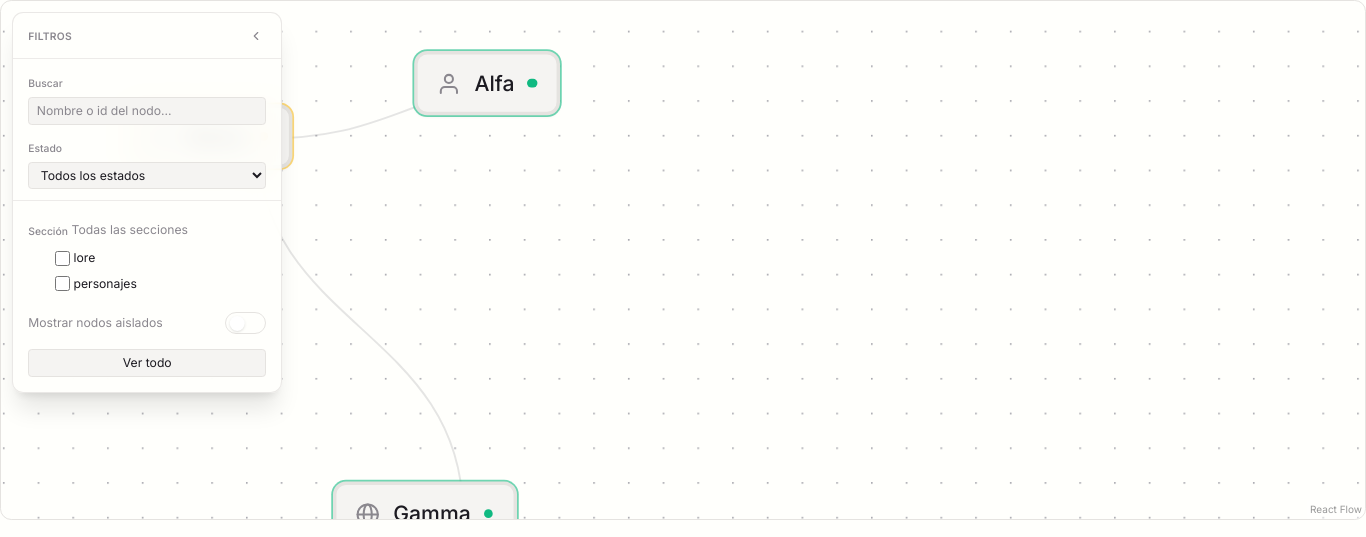
Test case: GraphView › floats the controls and the inspector over the full canvas surface
Check: the dropdown named "Filtrar por estado" is shown, box [28,162,266,188]
Click the text "Alfa".
click(494, 83)  # box [474,68,514,99]
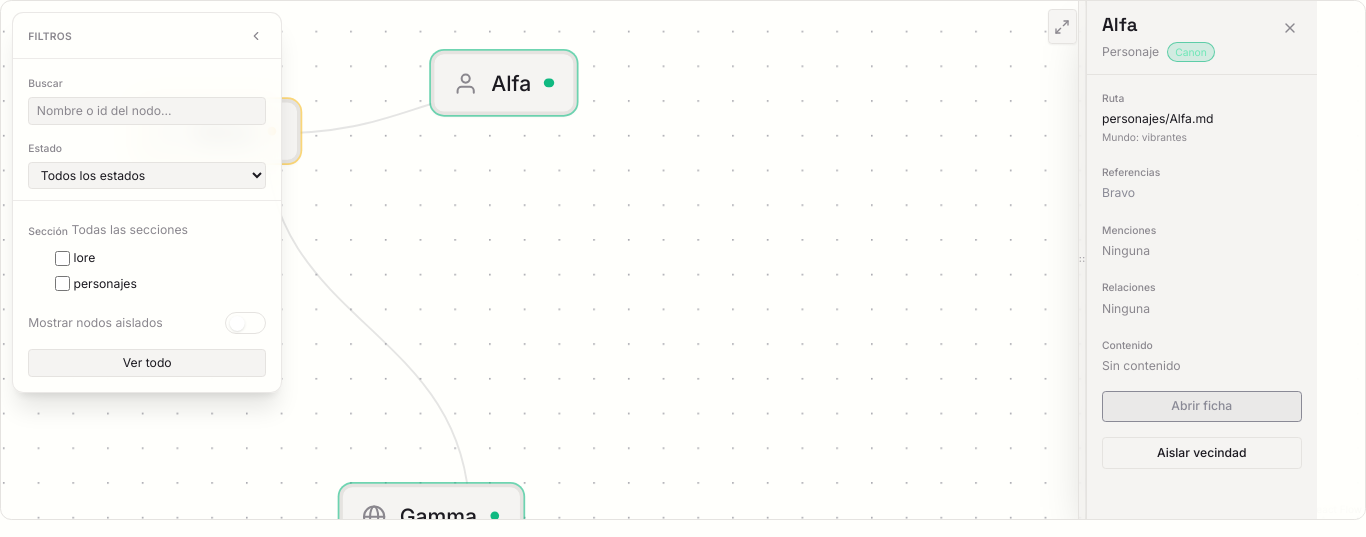
Check: the element with test id "node-inspector-panel" is shown, box [1086,1,1316,519]
